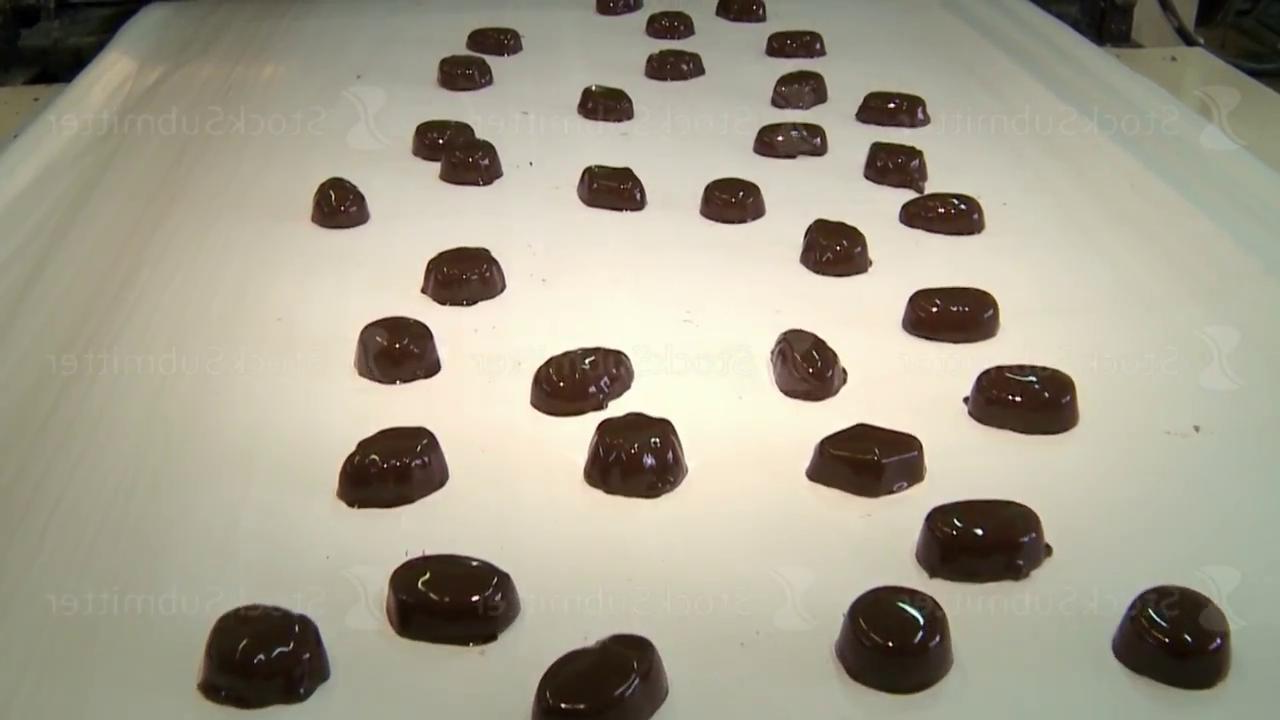chocolate: (197, 602, 331, 709), (835, 584, 954, 694), (1112, 583, 1232, 690), (386, 552, 521, 646), (532, 632, 669, 718), (916, 498, 1052, 583), (337, 425, 449, 509), (584, 411, 688, 498), (806, 422, 926, 497), (964, 363, 1079, 435), (530, 346, 635, 416), (355, 315, 441, 384), (771, 328, 848, 401), (903, 286, 1000, 343), (421, 246, 507, 306), (800, 218, 872, 276), (900, 192, 985, 235), (864, 140, 928, 193), (577, 164, 647, 211), (440, 137, 503, 186), (700, 177, 766, 223), (312, 176, 369, 229), (856, 90, 931, 127), (754, 121, 828, 158), (413, 119, 474, 160), (772, 69, 828, 109), (578, 83, 634, 122), (438, 54, 493, 91), (645, 48, 705, 81), (766, 29, 827, 58), (467, 26, 523, 56), (646, 10, 695, 39), (716, 0, 767, 23)
